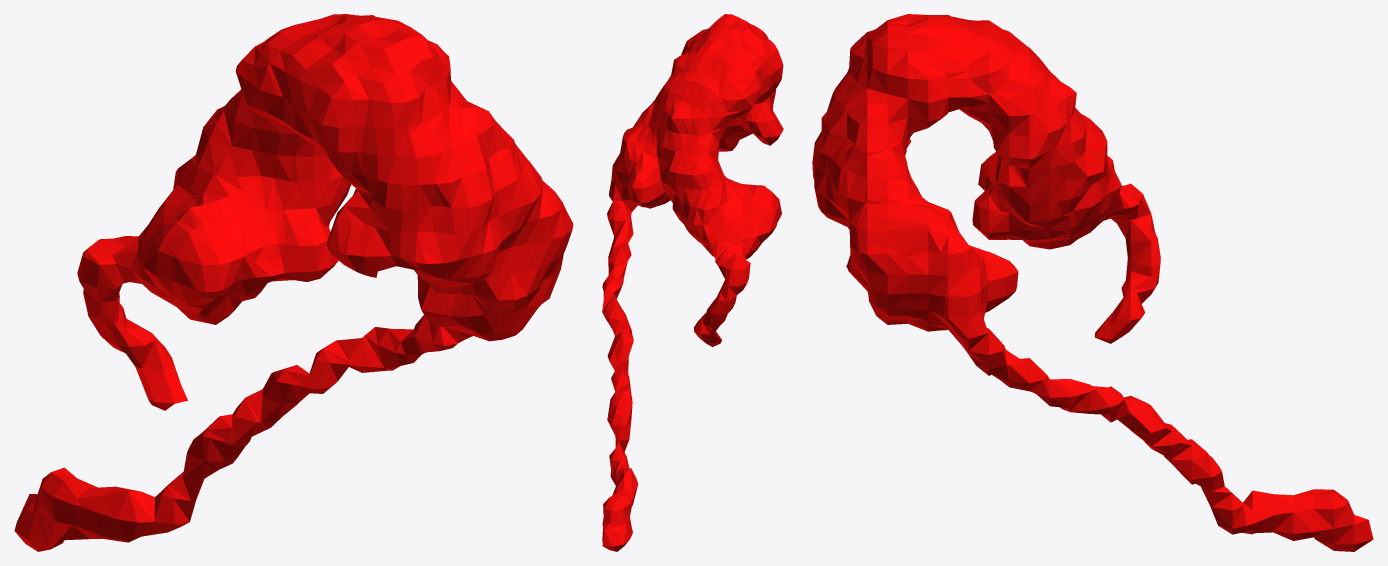
Rendered from malT_coarse.dae.
3 renders of one model, left to right at view 1: azimuth 30°, elevation 25°; view 2: azimuth 150°, elevation 25°; view 3: azimuth 270°, elevation 25°, orthographic. The views are drawn at different scales.
Visible parts, largest first — view 1: malT; view 2: malT; view 3: malT.
Part boxes in pixels (x1=…): malT: x1=14, y1=14, x2=573, y2=551; malT: x1=602, y1=14, x2=783, y2=551; malT: x1=812, y1=14, x2=1373, y2=551.
Bounding box in the file's own units: 95.57 × 187 × 170.
